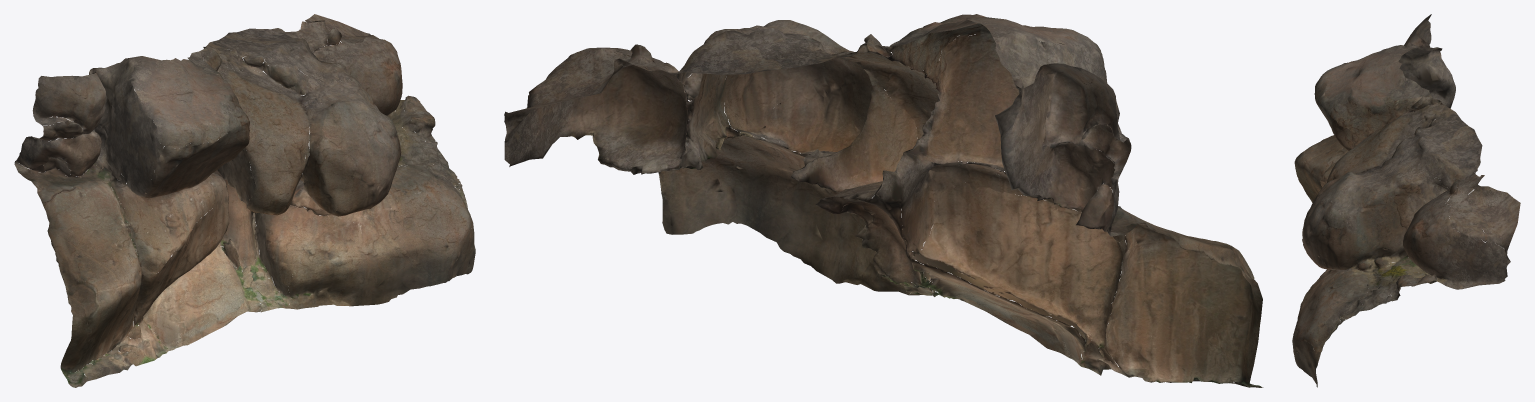
File: namaqualand_cliff_01.glb
3 views of the same model, side by side, from view 1: azimuth 30°, elevation 25°; view 2: azimuth 150°, elevation 25°; view 3: azimuth 270°, elevation 25° (orthographic). The views are drawn at different scales.
Parts seen in each view (by area): view 1: drone_rock_01; view 2: drone_rock_01; view 3: drone_rock_01.
Boxes of the visible parts, x1,y1,x2,y2 form: drone_rock_01: (14, 14, 475, 387); drone_rock_01: (504, 14, 1263, 387); drone_rock_01: (1292, 14, 1520, 387).
Size of the model in its own units: 8.28 by 4.96 by 4.39.
Materials: 1 (1 with a texture image).
